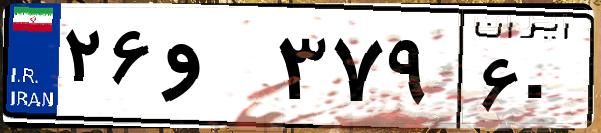0: (525, 38, 570, 115)
2: (57, 26, 110, 100)
3: (270, 28, 330, 110)
6: (475, 38, 525, 113), (110, 28, 158, 98)
7: (330, 28, 385, 110)
9: (385, 28, 445, 110)
و: (158, 20, 270, 120)
